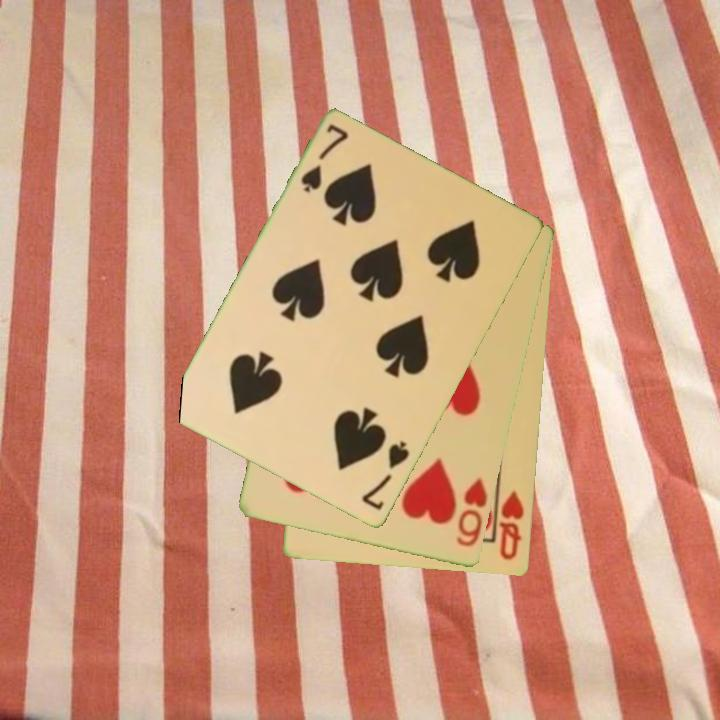6h: (453, 474, 491, 551)
7s: (358, 437, 413, 514), (297, 120, 352, 196)
Qh: (495, 487, 528, 564)
